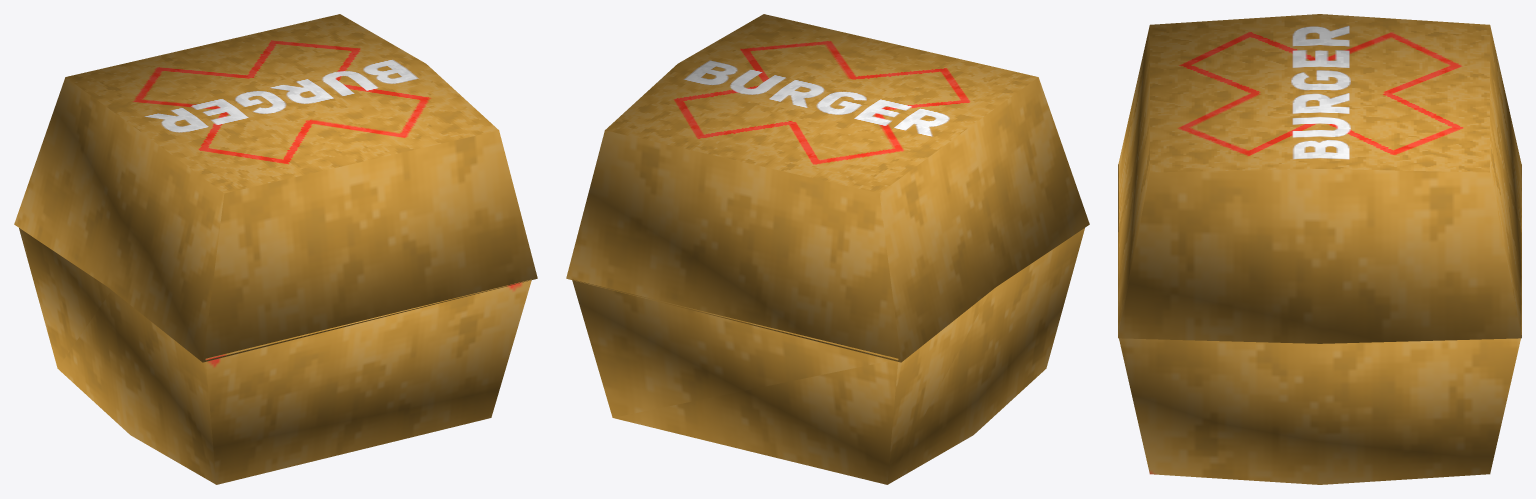
Rendered from BurgerBox.fbx.
The picture shows the model from 3 angles, left to right: view 1: azimuth 30°, elevation 25°; view 2: azimuth 150°, elevation 25°; view 3: azimuth 270°, elevation 25°; orthographic projection. The views are drawn at different scales.
Parts seen in each view (by area): view 1: BurgerBox_Top, BurgerBox; view 2: BurgerBox_Top, BurgerBox; view 3: BurgerBox_Top, BurgerBox.
Part boxes in pixels (<box>): BurgerBox_Top: <box>14,14,537,362</box>; BurgerBox: <box>19,228,531,484</box>; BurgerBox_Top: <box>566,14,1089,362</box>; BurgerBox: <box>572,228,1084,484</box>; BurgerBox_Top: <box>1118,14,1521,343</box>; BurgerBox: <box>1118,164,1521,484</box>.
Size of the model in its own units: 259 by 217 by 245.
